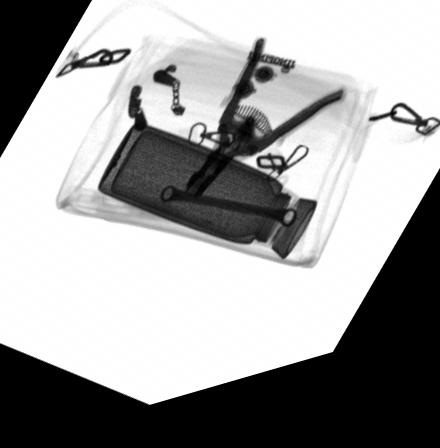Pliers: (179, 49, 343, 216)
Wrench: (158, 192, 297, 243)
